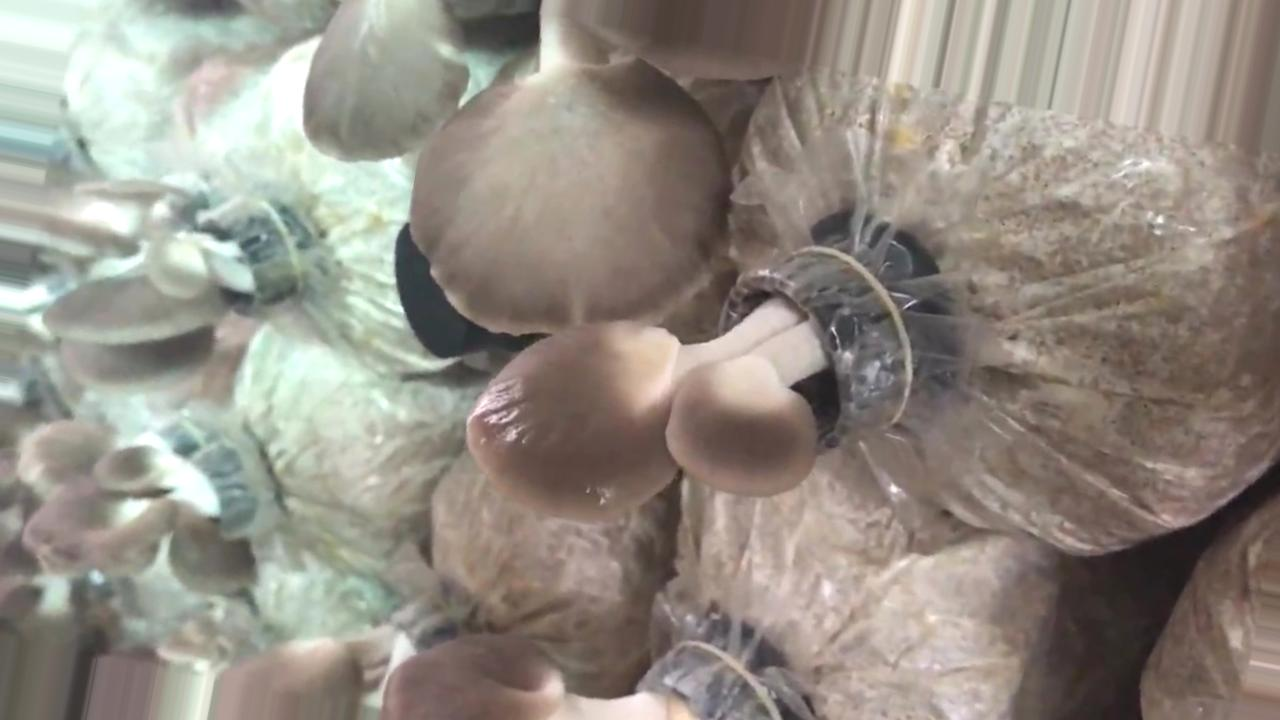nam: (298, 1, 816, 339), (461, 228, 949, 531), (38, 173, 302, 405), (24, 417, 271, 596), (381, 623, 824, 720), (208, 574, 478, 720)
